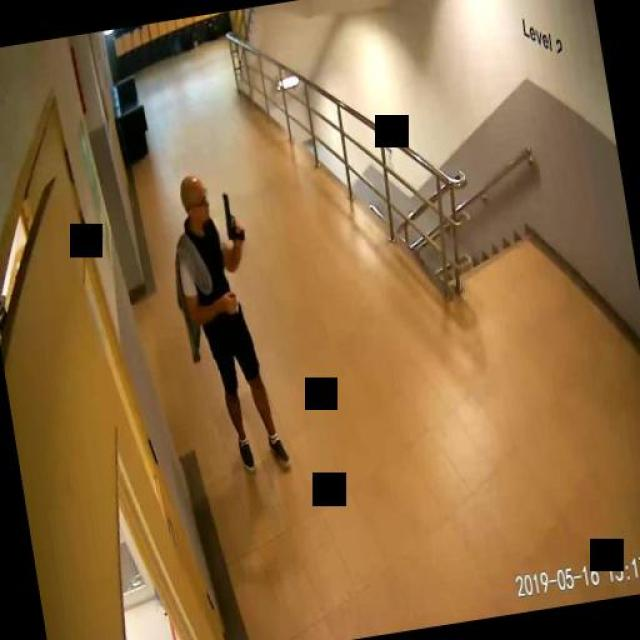gun: (218, 189, 242, 241)
